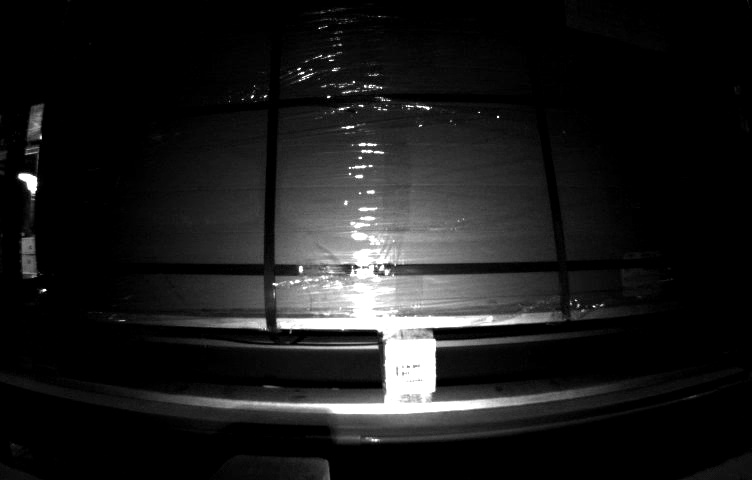True Barcode: (620, 255, 661, 292)
